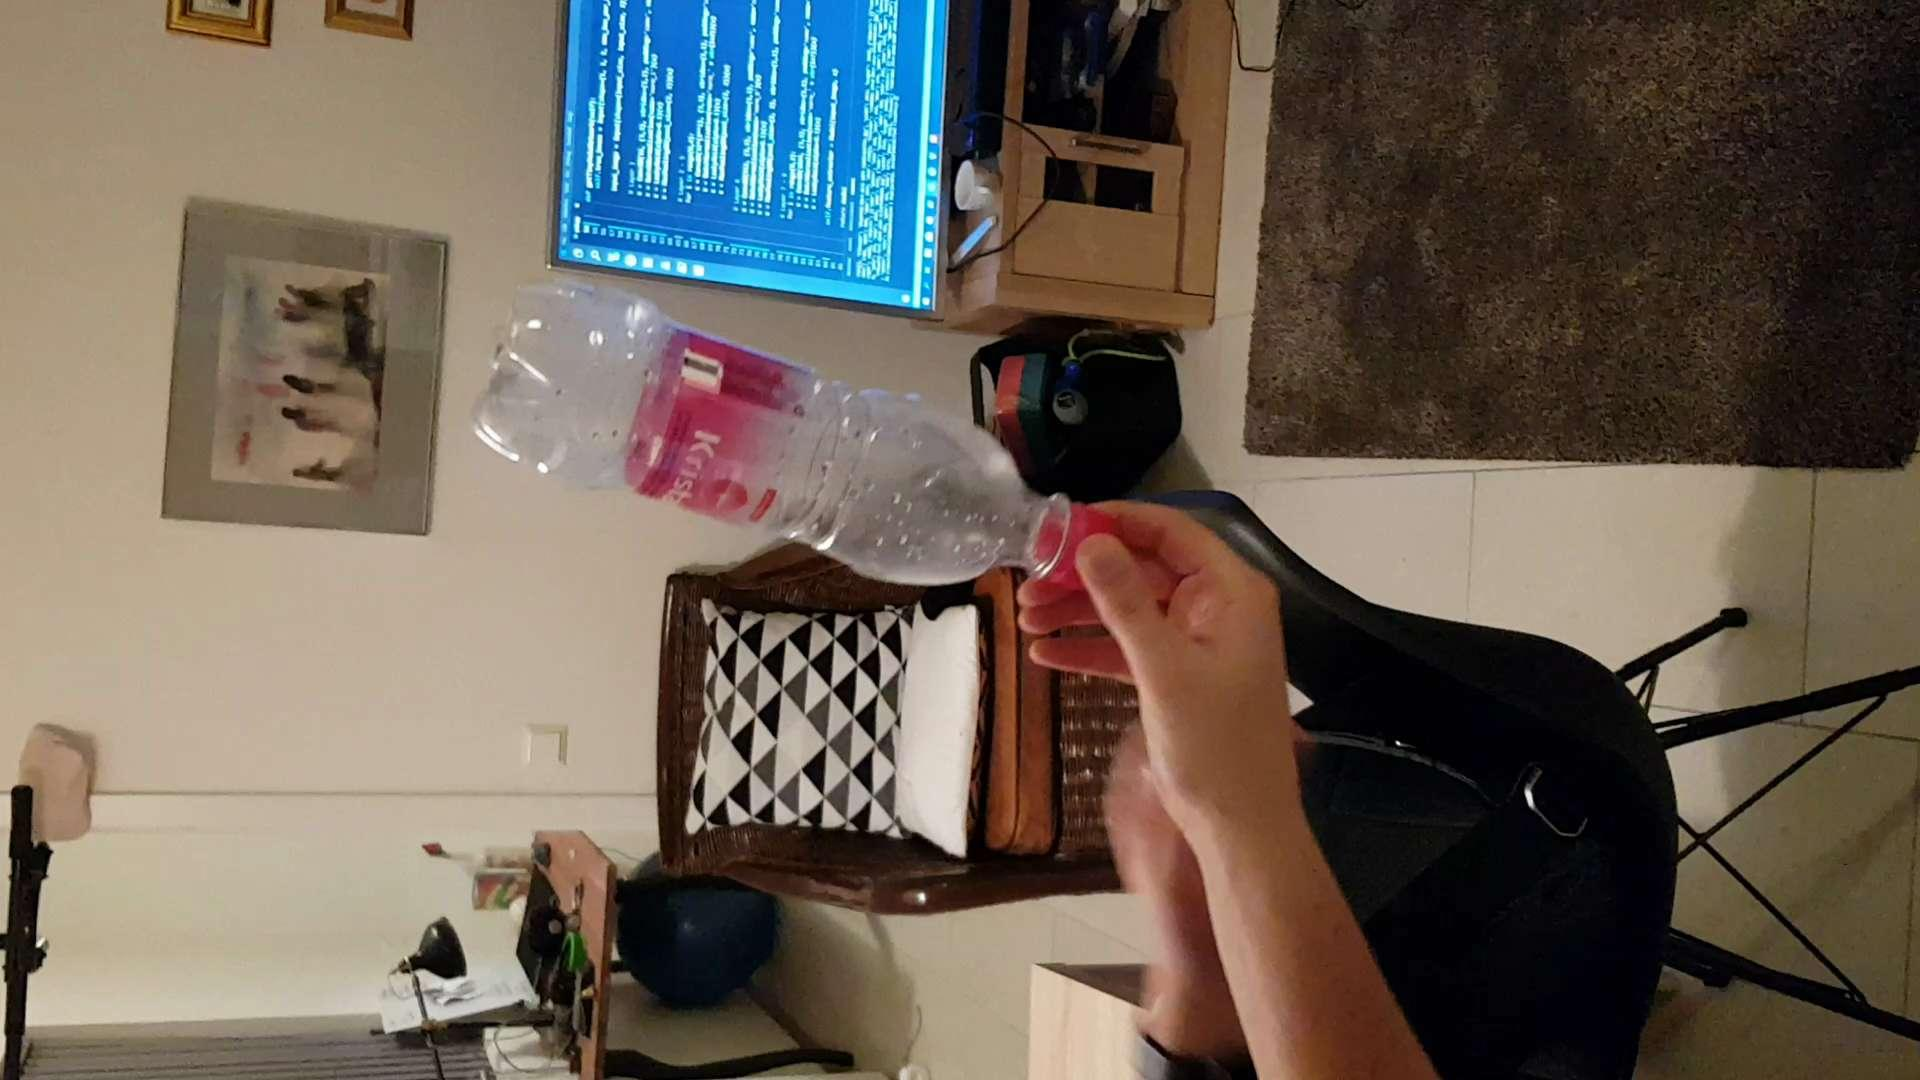Bottle: (475, 273, 1116, 595)
